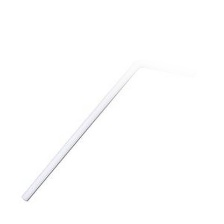drinking_straw: (17, 54, 199, 205)
